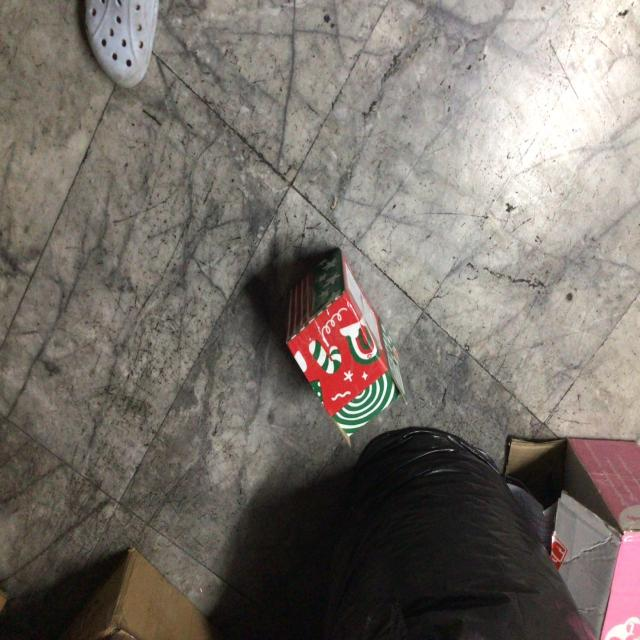cardboard: (273, 242, 414, 455)
